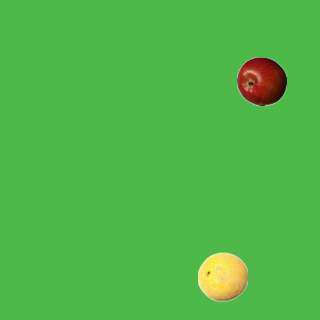Apple Braeburn: (236, 56, 286, 106)
Cantaloupe 1: (197, 251, 247, 301)
